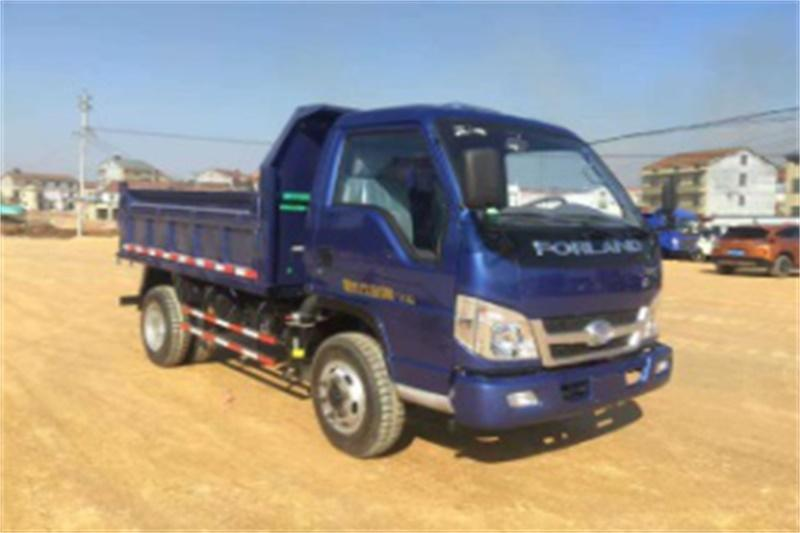truck: (96, 97, 681, 466)
